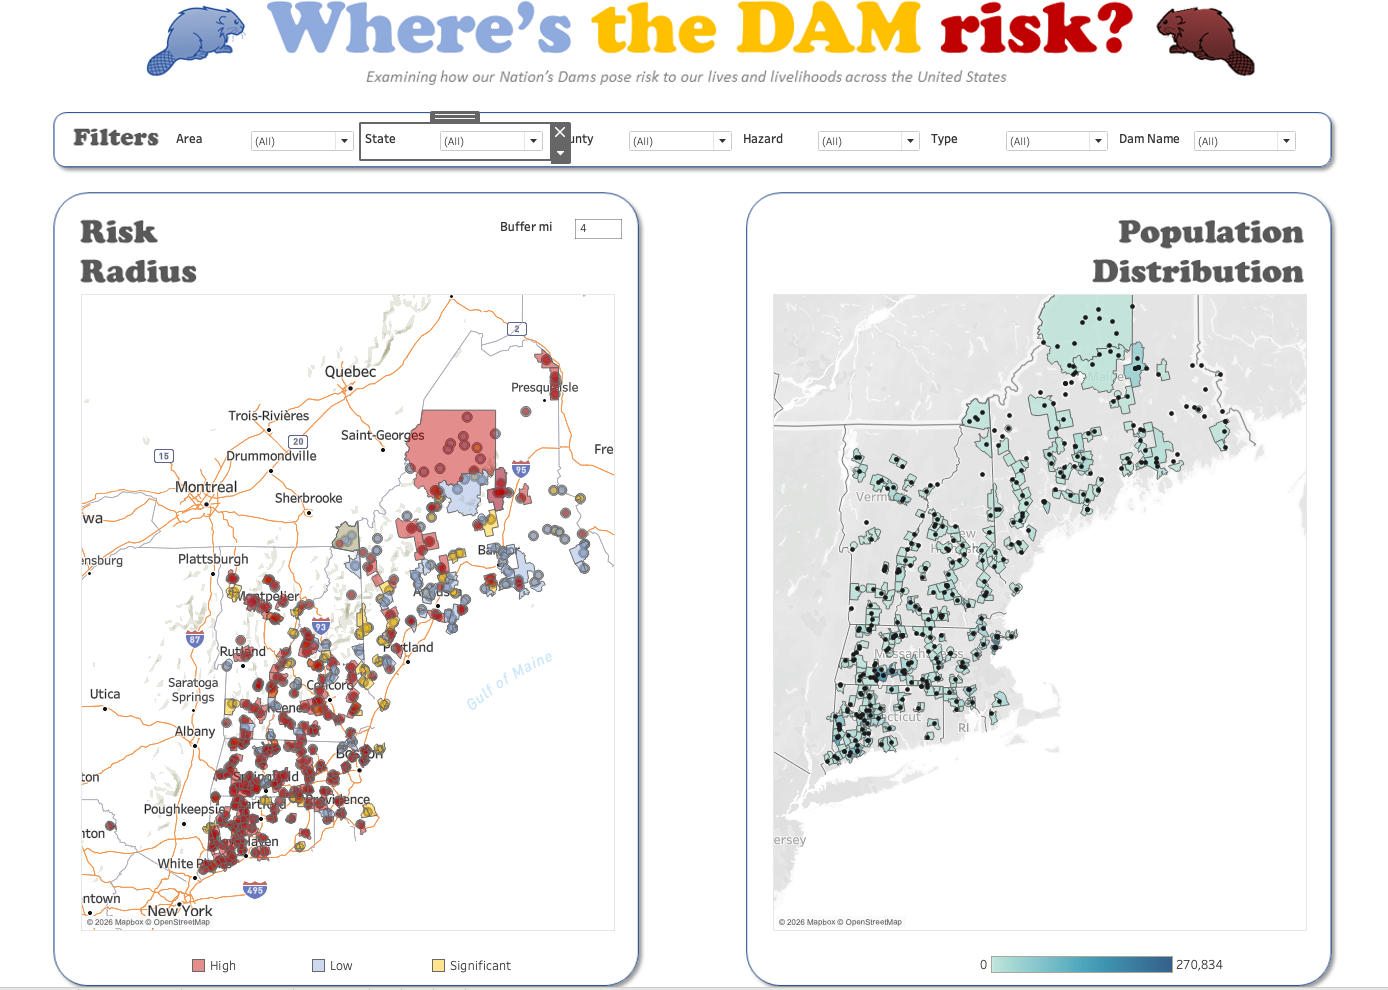

What the dashboard file says about the page in this screenshot:
{"tool":"tableau","page":{"name":"Dam Risk","canvas":[1400,1400],"ordinal":0},"visuals":[{"type":"worksheet","param":"Image/Homework_Section_3_Geospatial_Mapping_Background.png","box":[0,0,1400,1400]},{"type":"worksheet","param":"horz","box":[180,164,1131,35]},{"type":"worksheet","title":"Radius Map","mark":"Multipolygon","rows":["LATITUDE","LATITUDE"],"cols":["LONGITUDE"],"param":"[federated.1678fv71s483p512wij1o0zyefb7].[none:State (group):nk]","box":[180,164,189,35]},{"type":"worksheet","title":"Radius Map","mark":"Multipolygon","rows":["LATITUDE","LATITUDE"],"cols":["LONGITUDE"],"param":"[federated.1678fv71s483p512wij1o0zyefb7].[none:State Name:nk]","box":[369,164,189,35]},{"type":"worksheet","title":"Radius Map","mark":"Multipolygon","rows":["LATITUDE","LATITUDE"],"cols":["LONGITUDE"],"param":"[federated.1678fv71s483p512wij1o0zyefb7].[none:County:nk]","box":[558,164,189,35]},{"type":"worksheet","title":"Radius Map","mark":"Multipolygon","rows":["LATITUDE","LATITUDE"],"cols":["LONGITUDE"],"param":"[federated.1678fv71s483p512wij1o0zyefb7].[none:Hazard:nk]","box":[747,164,188,35]},{"type":"worksheet","title":"Radius Map","mark":"Multipolygon","rows":["LATITUDE","LATITUDE"],"cols":["LONGITUDE"],"param":"[federated.1678fv71s483p512wij1o0zyefb7].[none:Dam Type (copy) (group):nk]","box":[935,164,188,35]},{"type":"worksheet","title":"Radius Map","mark":"Multipolygon","rows":["LATITUDE","LATITUDE"],"cols":["LONGITUDE"],"param":"[federated.1678fv71s483p512wij1o0zyefb7].[none:Dam Name:nk]","box":[1123,164,188,35]},{"type":"worksheet","param":"[Parameters].[Parameter 1]","box":[508,256,125,26]},{"type":"worksheet","title":"Radius Map","mark":"Multipolygon","rows":["LATITUDE","LATITUDE"],"cols":["LONGITUDE"],"box":[89,334,534,637]},{"type":"worksheet","title":"Population Map","mark":"Automatic","box":[781,334,534,637]},{"type":"worksheet","title":"Population Map","mark":"Automatic","param":"[federated.1678fv71s483p512wij1o0zyefb7].[sum:Population (Population):qk]","box":[984,992,252,27]},{"type":"worksheet","title":"Radius Map","mark":"Multipolygon","rows":["LATITUDE","LATITUDE"],"cols":["LONGITUDE"],"param":"[federated.1678fv71s483p512wij1o0zyefb7].[none:Hazard:nk]","box":[196,995,384,26]},{"type":"worksheet","title":"Dam Detail","mark":"Automatic","rows":["State (group)","State Name","County","Dam Name","Dam Type (copy) (group)","Purposes (copy) (group)"],"box":[63,1063,1281,302]}]}

Visuals, with their boxes in screenshot pixels (x1, y1, x2, y2):
worksheet: left=387, top=54, right=1329, bottom=989
worksheet: left=508, top=165, right=1269, bottom=188
"Radius Map" worksheet (Multipolygon marks): left=508, top=165, right=635, bottom=188
"Radius Map" worksheet (Multipolygon marks): left=635, top=165, right=762, bottom=188
"Radius Map" worksheet (Multipolygon marks): left=762, top=165, right=889, bottom=188
"Radius Map" worksheet (Multipolygon marks): left=889, top=165, right=1016, bottom=188
"Radius Map" worksheet (Multipolygon marks): left=1016, top=165, right=1142, bottom=188
"Radius Map" worksheet (Multipolygon marks): left=1142, top=165, right=1269, bottom=188
worksheet: left=729, top=226, right=813, bottom=244
"Radius Map" worksheet (Multipolygon marks): left=447, top=279, right=806, bottom=708
"Population Map" worksheet: left=912, top=279, right=1272, bottom=708
"Population Map" worksheet: left=1049, top=722, right=1218, bottom=740
"Radius Map" worksheet (Multipolygon marks): left=519, top=724, right=777, bottom=741
"Dam Detail" worksheet: left=429, top=770, right=1291, bottom=973
